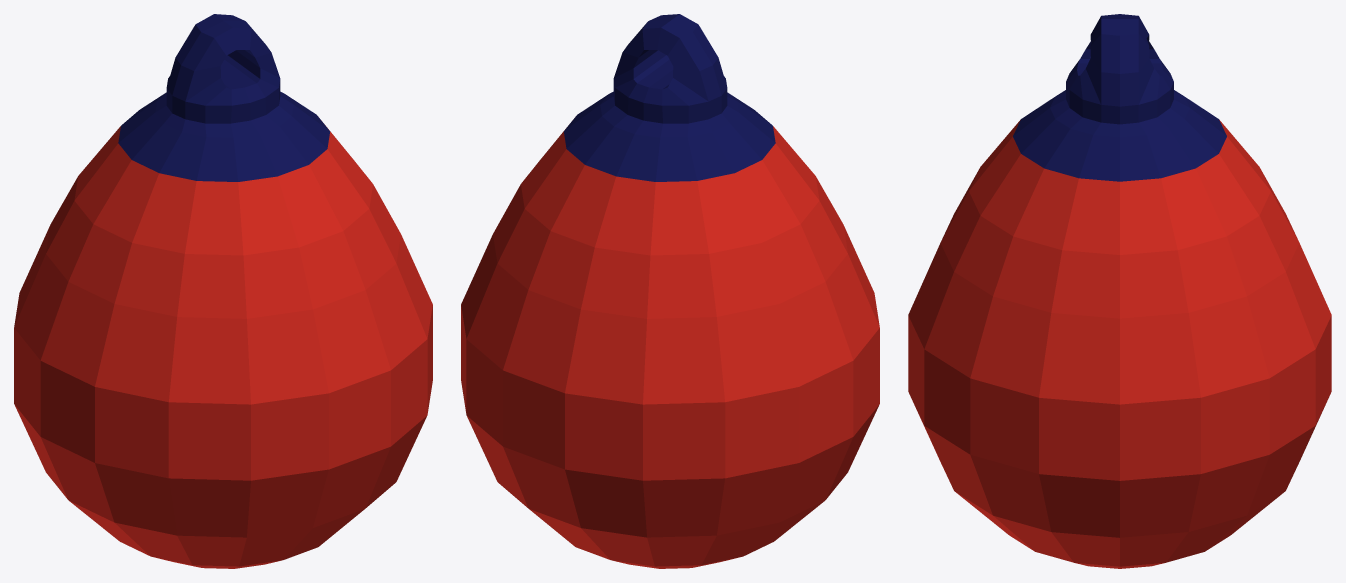
Rendered from Harbour-Fender_Round.fbx.
3 renders of one model, left to right at view 1: azimuth 30°, elevation 25°; view 2: azimuth 150°, elevation 25°; view 3: azimuth 270°, elevation 25°, orthographic.
Parts seen in each view (by area): view 1: Round_float; view 2: Round_float; view 3: Round_float.
Boxes of the visible parts, box(x1,y1,x2,y2) form: Round_float: box(14, 14, 432, 568); Round_float: box(461, 14, 879, 568); Round_float: box(908, 14, 1331, 568).
Bounding box in the file's own units: 0.4325 × 0.597 × 0.4325.
